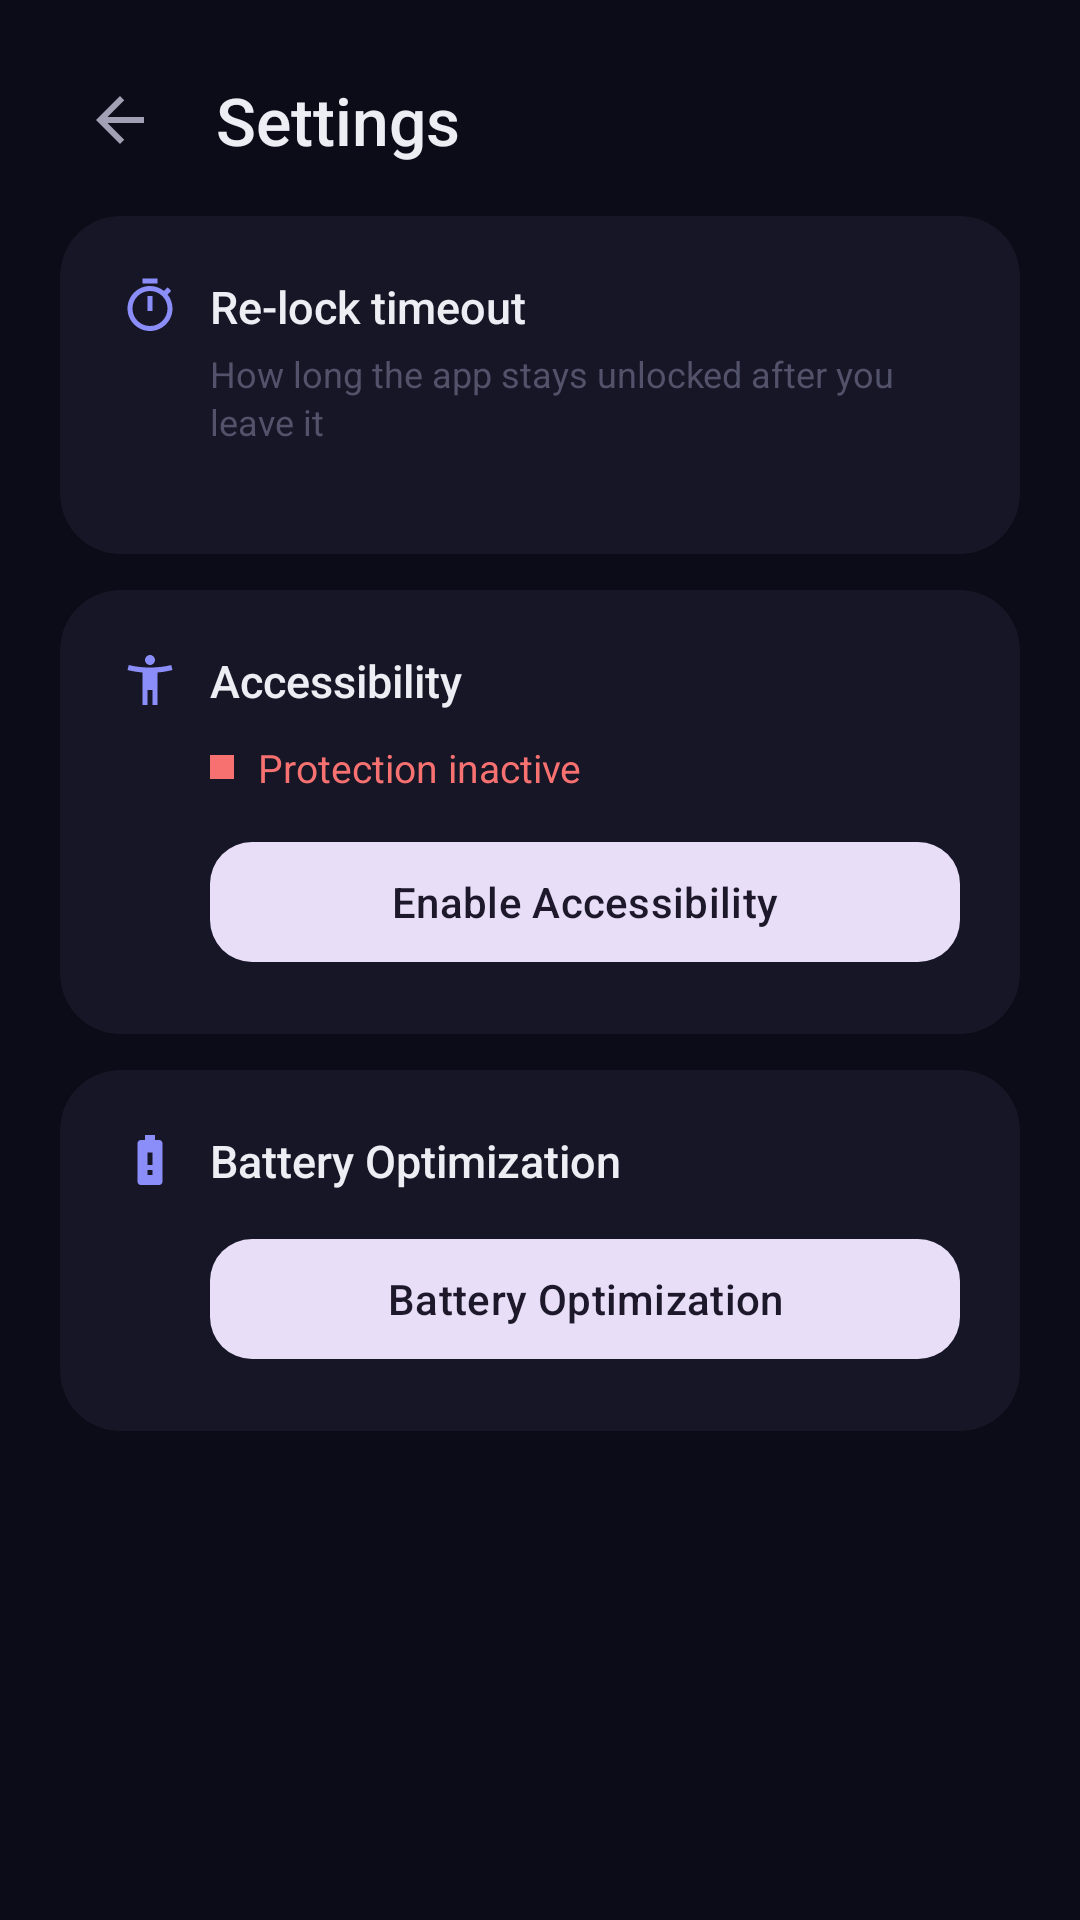

Named icons in this screenshot (1080×1920) and their centers, (x=x, y=y):
Back: (x=120, y=120)
timer: (x=150, y=304)
